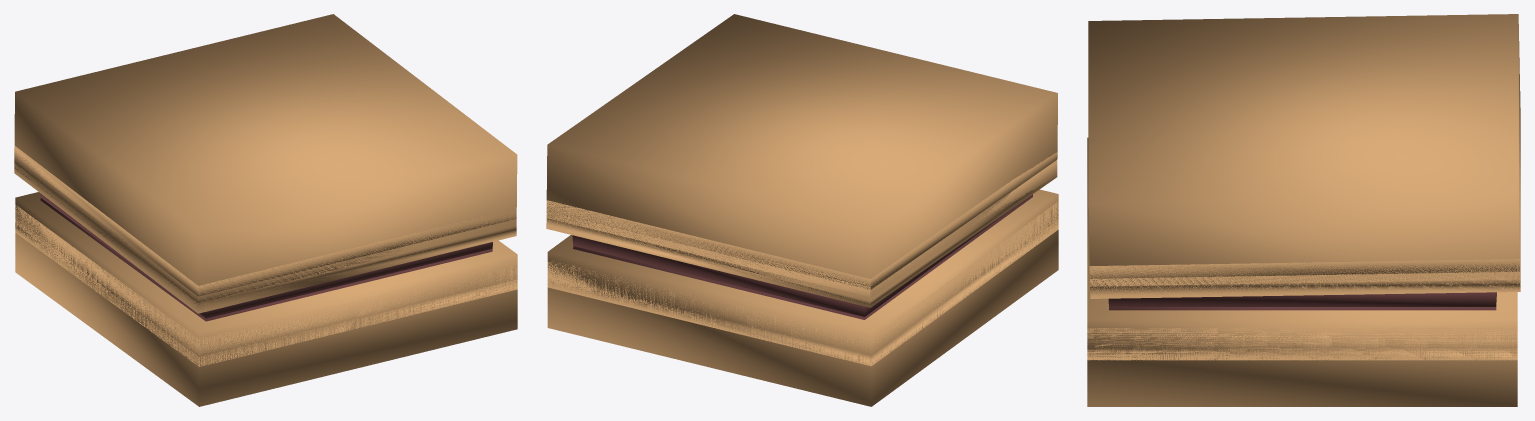
Rendered from hamburger.glb.
3 views of the same model, side by side, from view 1: azimuth 30°, elevation 25°; view 2: azimuth 150°, elevation 25°; view 3: azimuth 270°, elevation 25° (orthographic). The views are drawn at different scales.
Visible parts, largest first — view 1: Cube.002, Cube, Cube.001; view 2: Cube.002, Cube, Cube.001; view 3: Cube.002, Cube, Cube.001.
Boxes of the visible parts, left/top/right/bottom form: Cube.002: left=14, top=14, right=517, bottom=313; Cube: left=15, top=192, right=517, bottom=406; Cube.001: left=40, top=193, right=492, bottom=321; Cube.002: left=546, top=14, right=1057, bottom=307; Cube: left=547, top=189, right=1058, bottom=406; Cube.001: left=572, top=194, right=1032, bottom=319; Cube.002: left=1088, top=14, right=1520, bottom=298; Cube: left=1087, top=137, right=1517, bottom=406; Cube.001: left=1108, top=292, right=1496, bottom=310.
Bounding box in the file's own units: 11.85 × 6.41 × 11.93.
